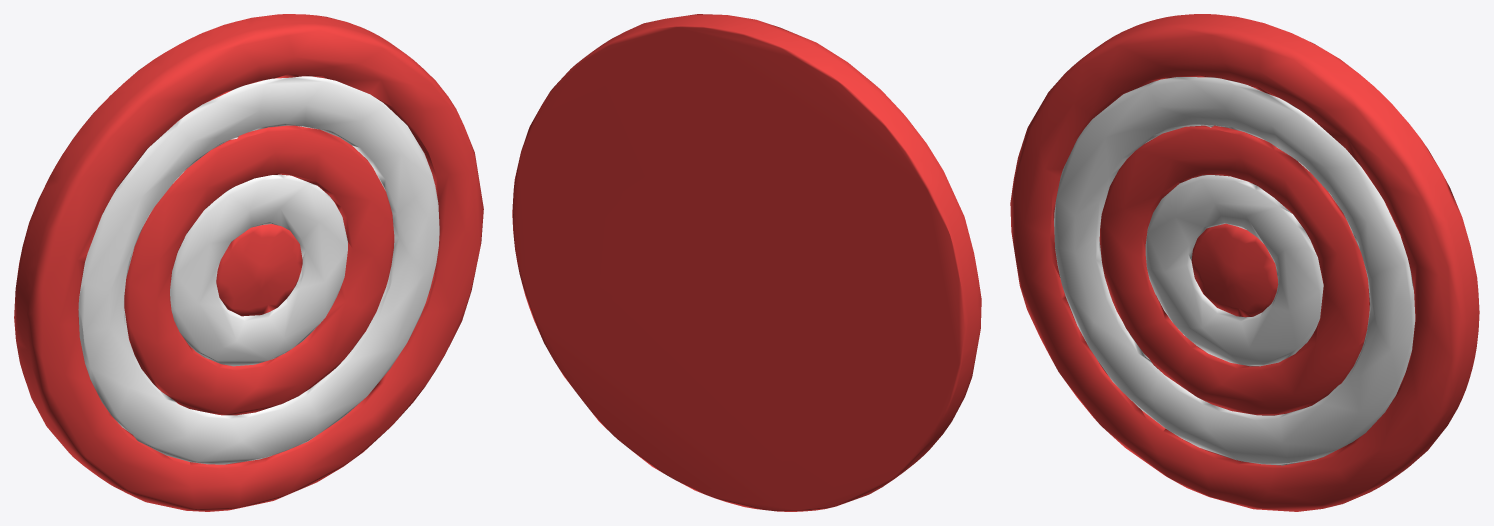
The model's file is model_roomTarget.fbx.
3 renders of one model, left to right at view 1: azimuth 30°, elevation 25°; view 2: azimuth 150°, elevation 25°; view 3: azimuth 330°, elevation 25°, orthographic.
Parts seen in each view (by area): view 1: mesh_roomTarget; view 2: mesh_roomTarget; view 3: mesh_roomTarget.
Boxes of the visible parts, <box> form: mesh_roomTarget: <box>14,14,483,511</box>; mesh_roomTarget: <box>512,14,981,511</box>; mesh_roomTarget: <box>1010,14,1479,511</box>.
Bounding box in the file's own units: 199 × 199 × 19.27.
